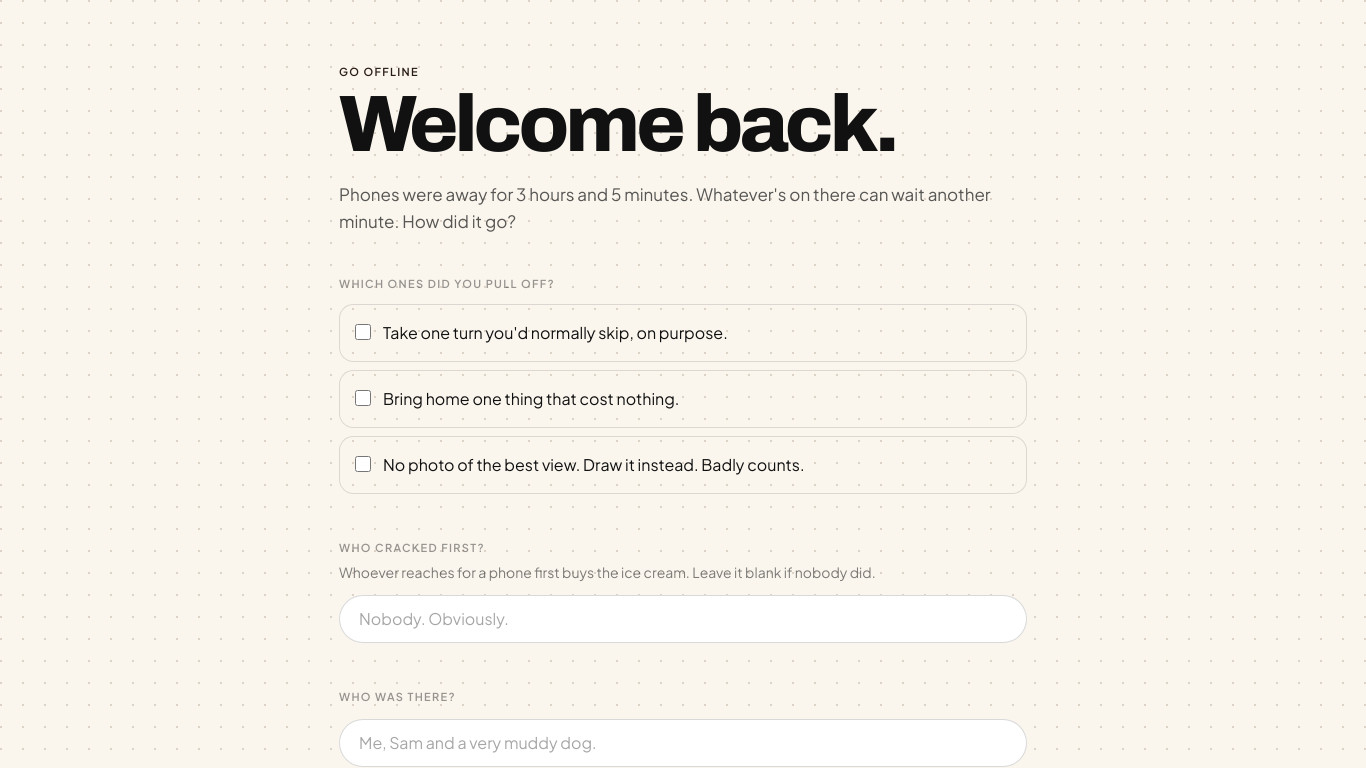
Test: WelcomeBack › asks about the pact, makes the postcard, and files the outing
Expected: the text with test id "offline-away" shows "away for 3 hours and 5 minutes", [339,182,991,232]
Click the checkbox labelled "Take one turn you'd normally skip, on purpose.".
click(363, 332)  # box [355,324,371,340]
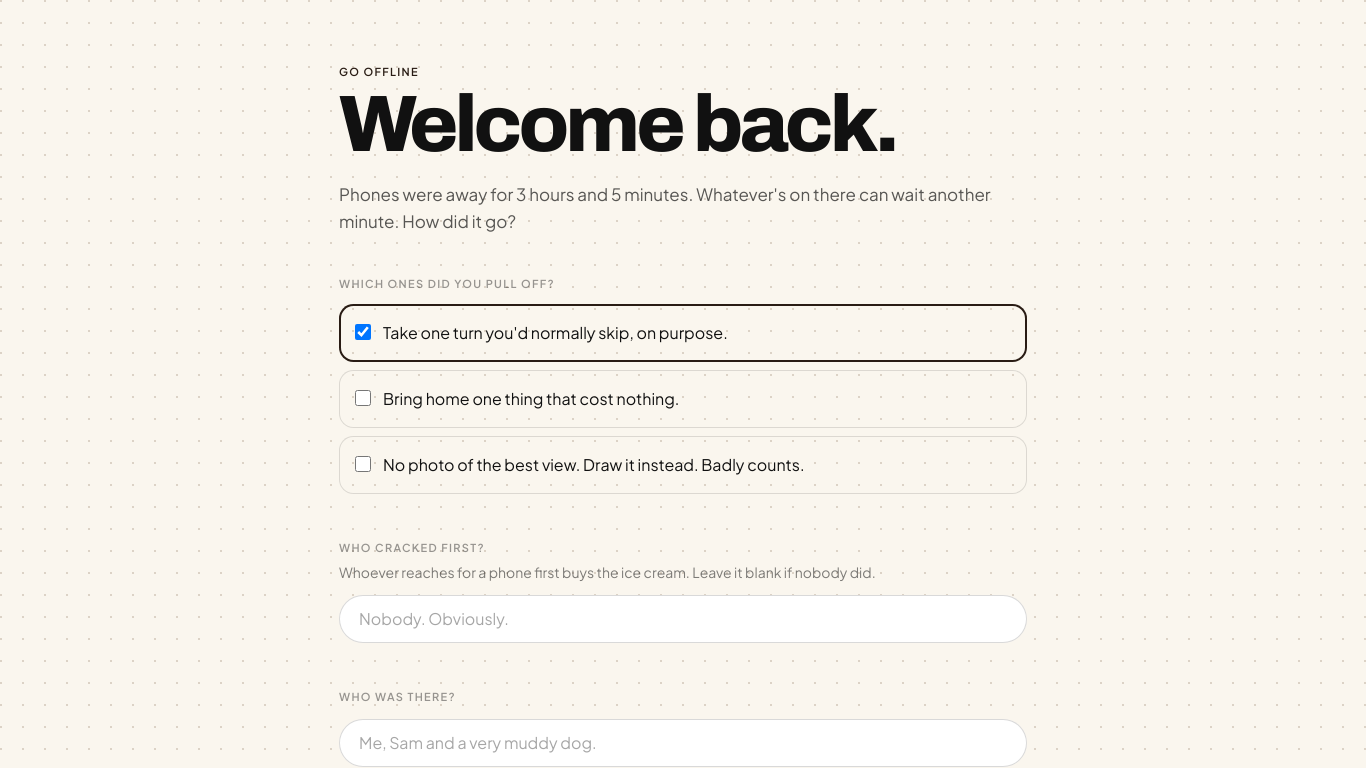
Click the checkbox labelled "Bring home one thing that cost nothing.".
click(363, 398)  # box [355,390,371,406]
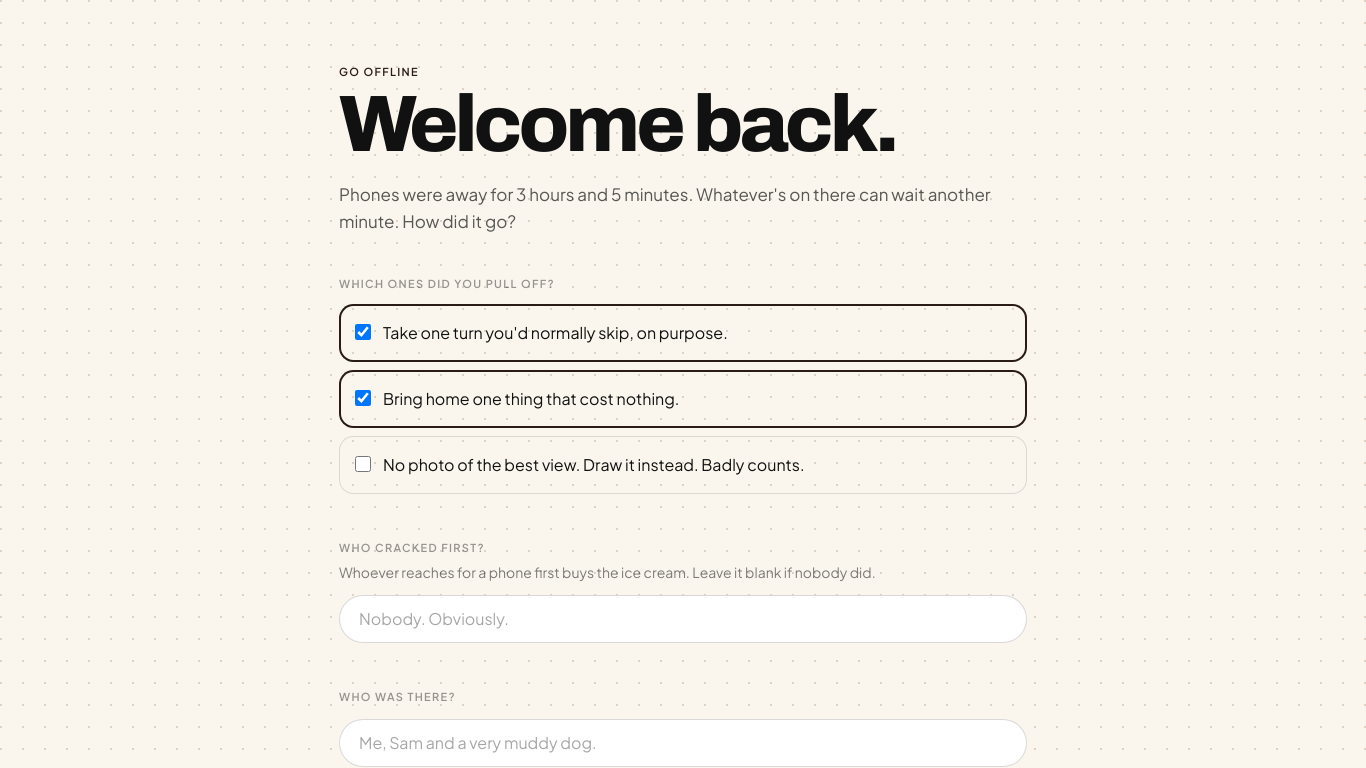
Type "Sam" into the field with test id "offline-cracked".
click(683, 619); type("Sam")  # box [339,595,1027,643]
(page scrolled)
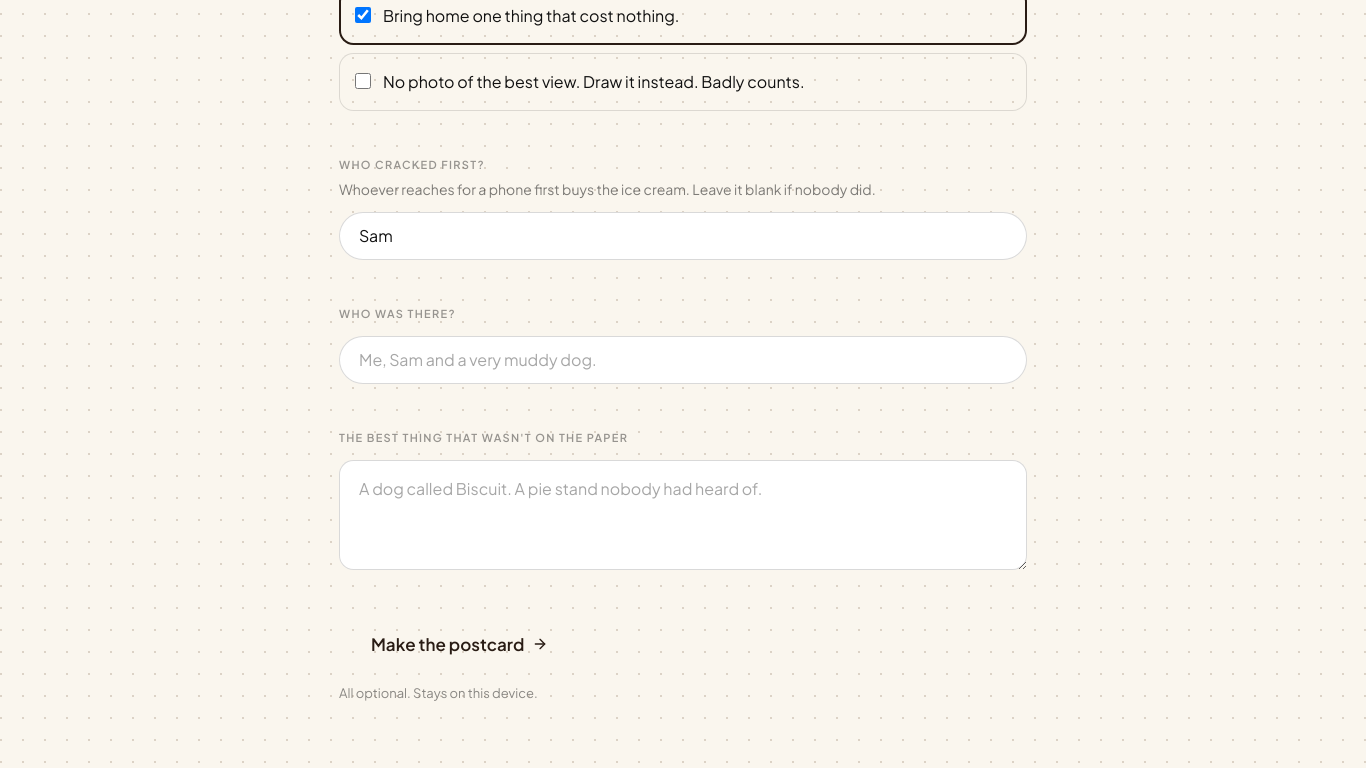
Type "a dog called Biscuit" into the text box with test id "offline-unplanned".
click(683, 515); type("a dog called Biscuit")  # box [339,460,1027,570]
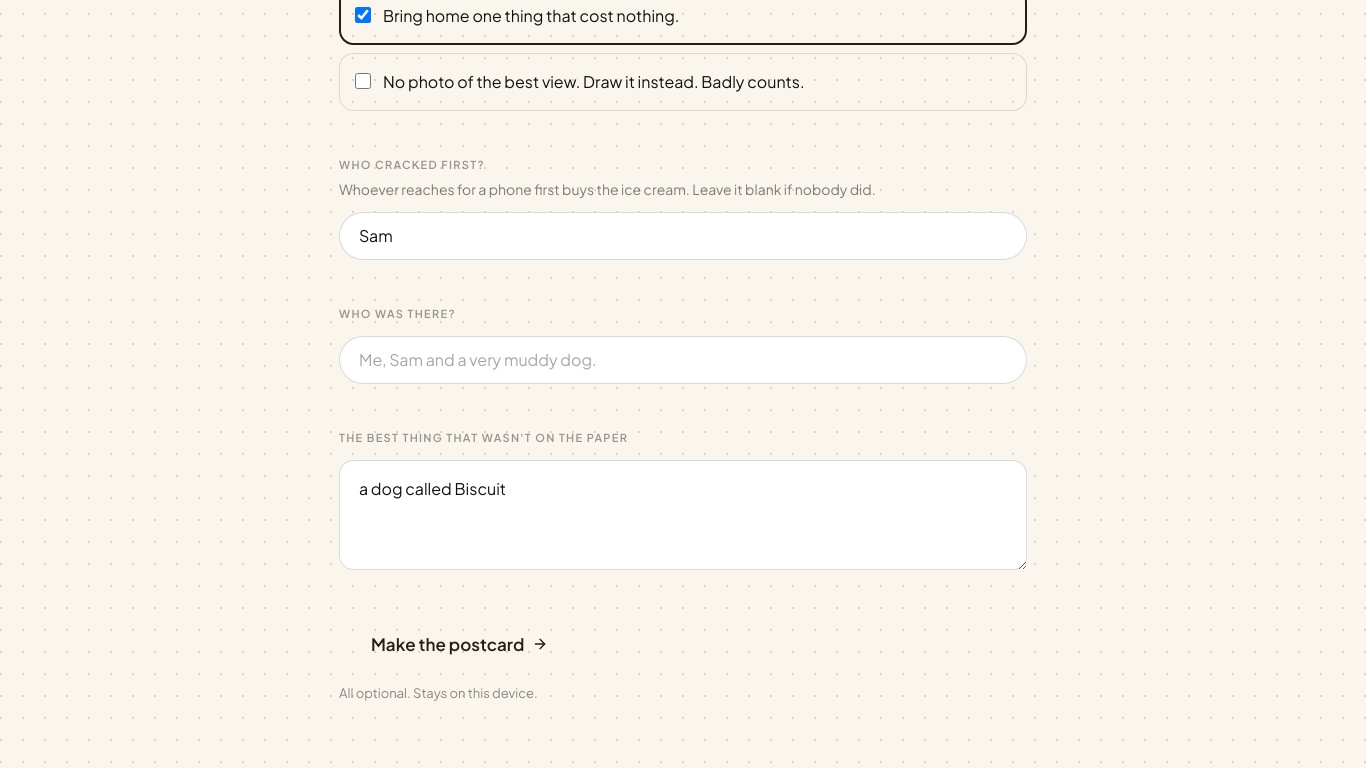
Click the button with test id "offline-make-postcard".
click(460, 644)  # box [339,616,580,672]
(page scrolled)
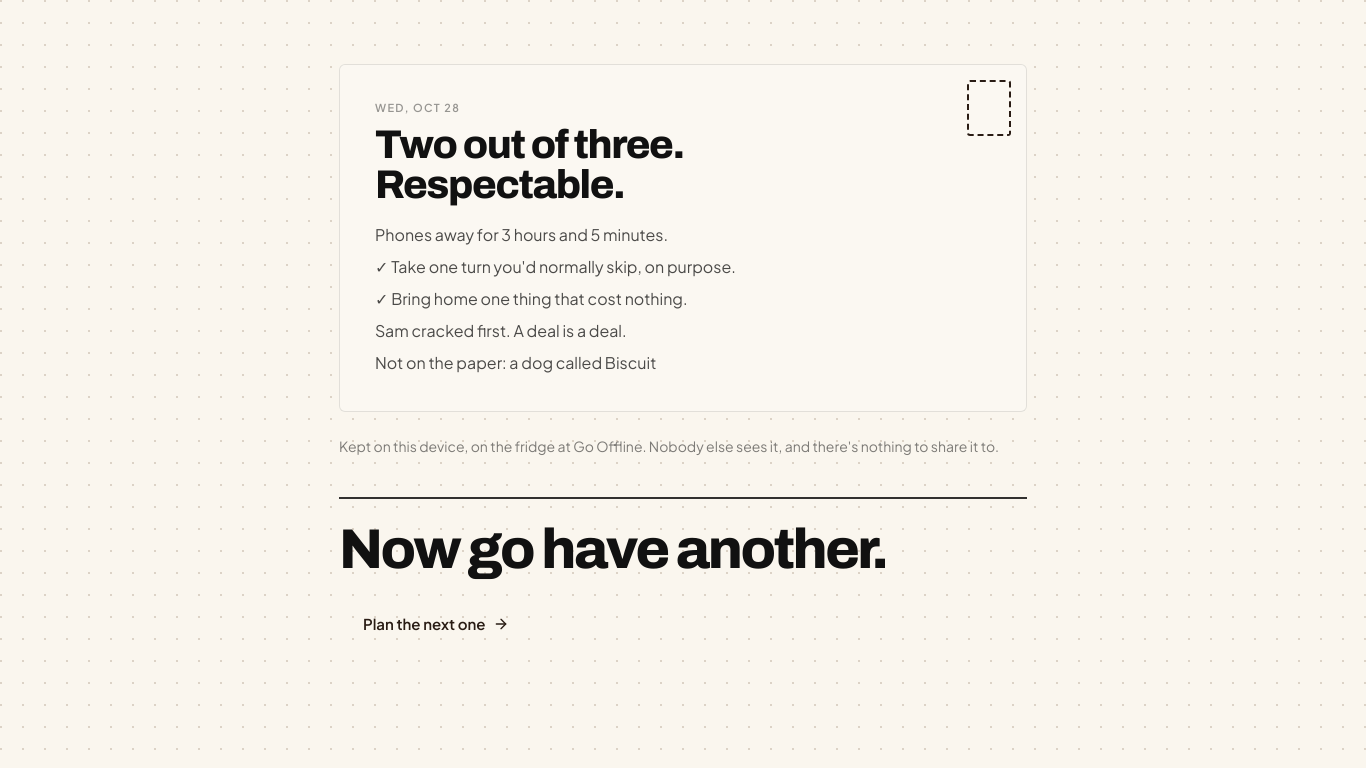
Result: the element with test id "offline-postcard" shows "Two out of three. Respectable." at [375,122,684,206]
Result: the element with test id "offline-postcard" shows "Sam cracked first." at [375,320,627,341]
Result: the element with test id "offline-postcard" shows "Not on the paper: a dog called Biscuit" at [375,352,656,373]
